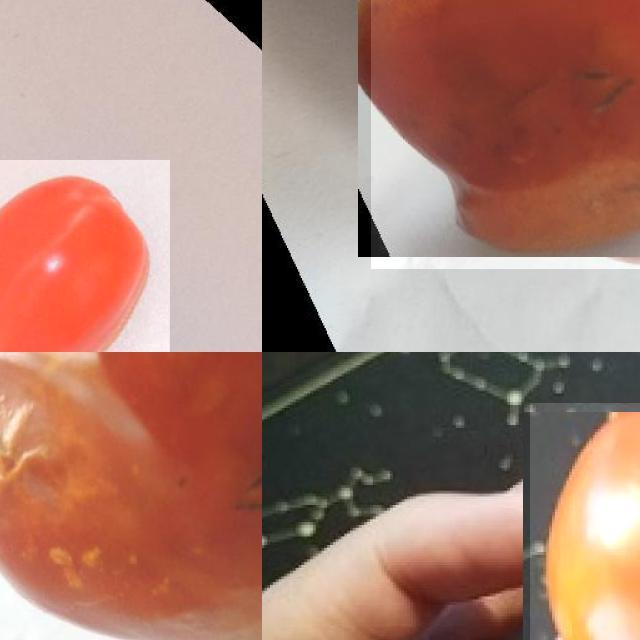Fresh Tomato: (0, 159, 170, 352)
Rotten Tomato: (0, 352, 262, 640), (371, 0, 640, 269), (530, 403, 640, 640)
